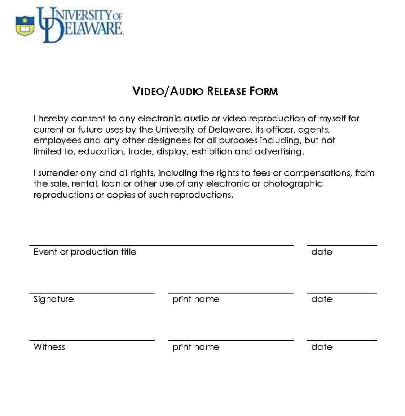textline: (28, 227, 297, 248), (164, 318, 298, 344), (162, 272, 297, 296), (28, 272, 158, 296), (27, 320, 156, 344), (302, 272, 384, 297), (303, 227, 382, 249), (304, 324, 382, 346)
